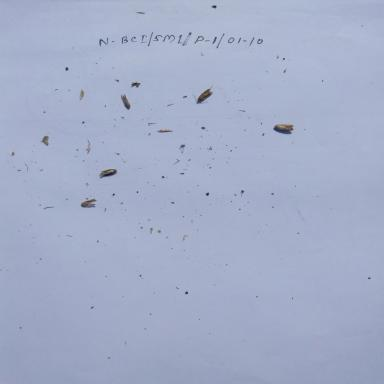pbw: (270, 114, 300, 144), (114, 91, 142, 116), (75, 194, 107, 213), (191, 84, 215, 104), (96, 167, 118, 180), (156, 128, 176, 134)
